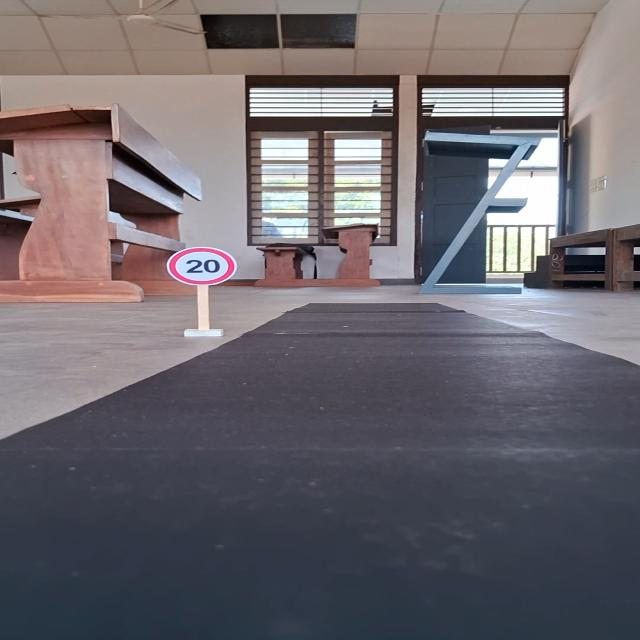Speed20: (157, 244, 241, 288)
